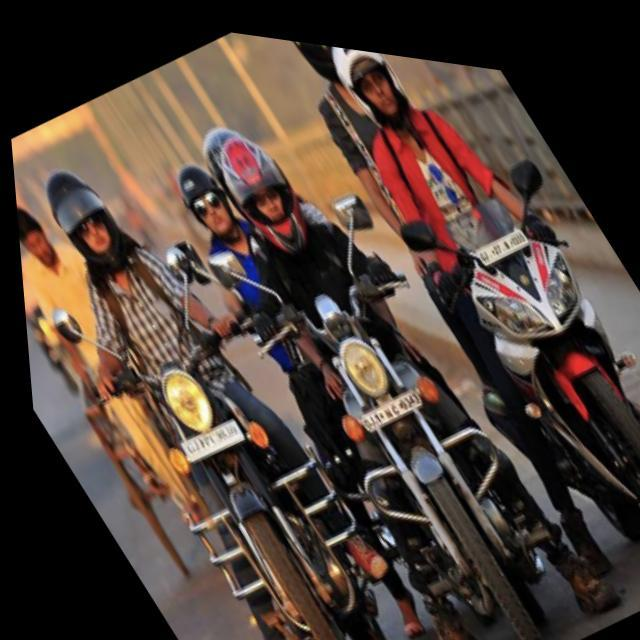Helmet: (208, 126, 312, 261), (44, 164, 134, 268)
